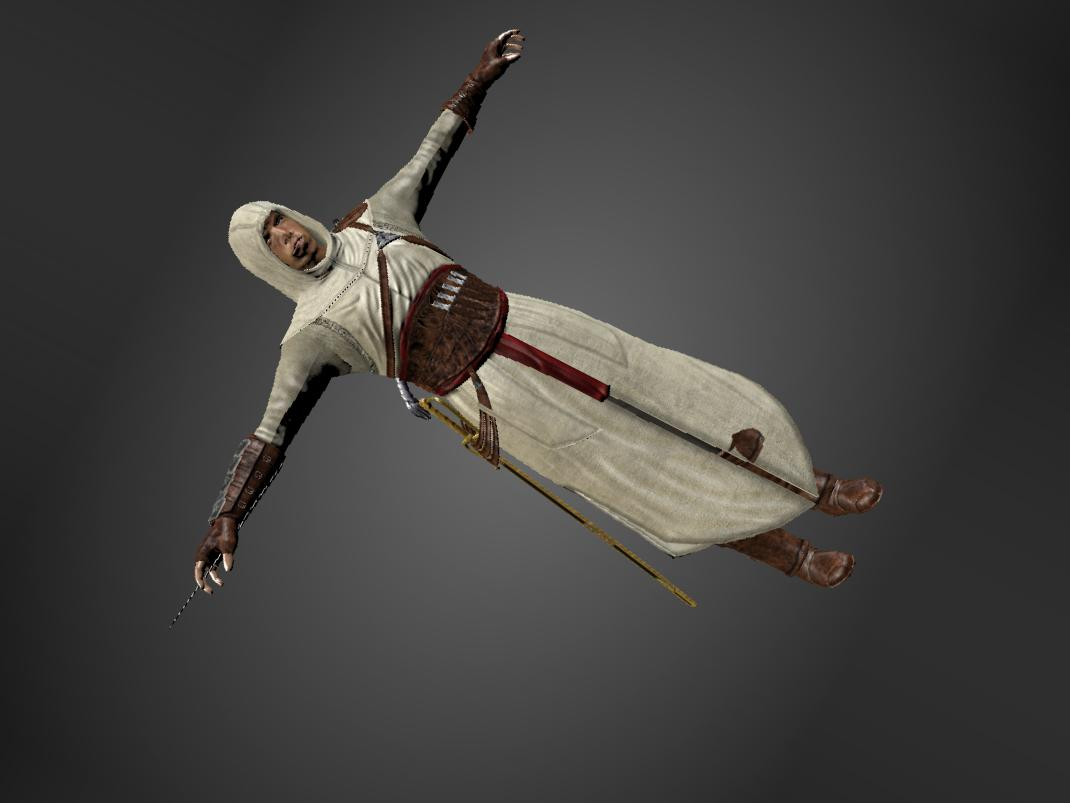clip: (725, 425, 768, 463)
